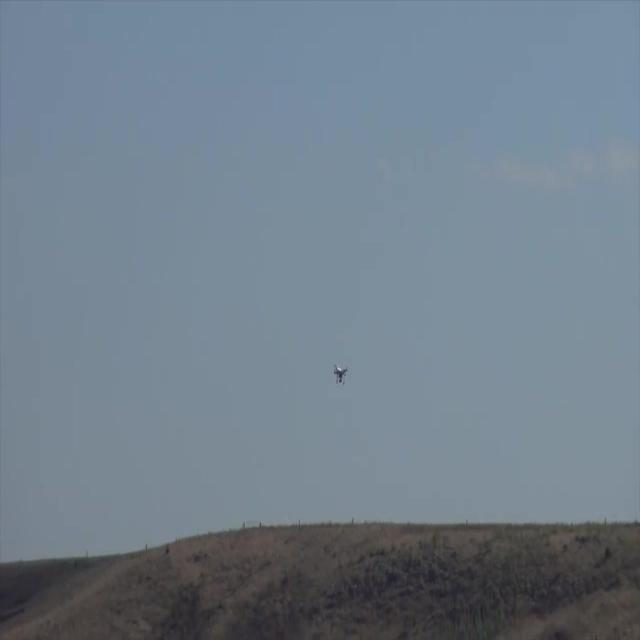drone: (331, 362, 349, 388)
